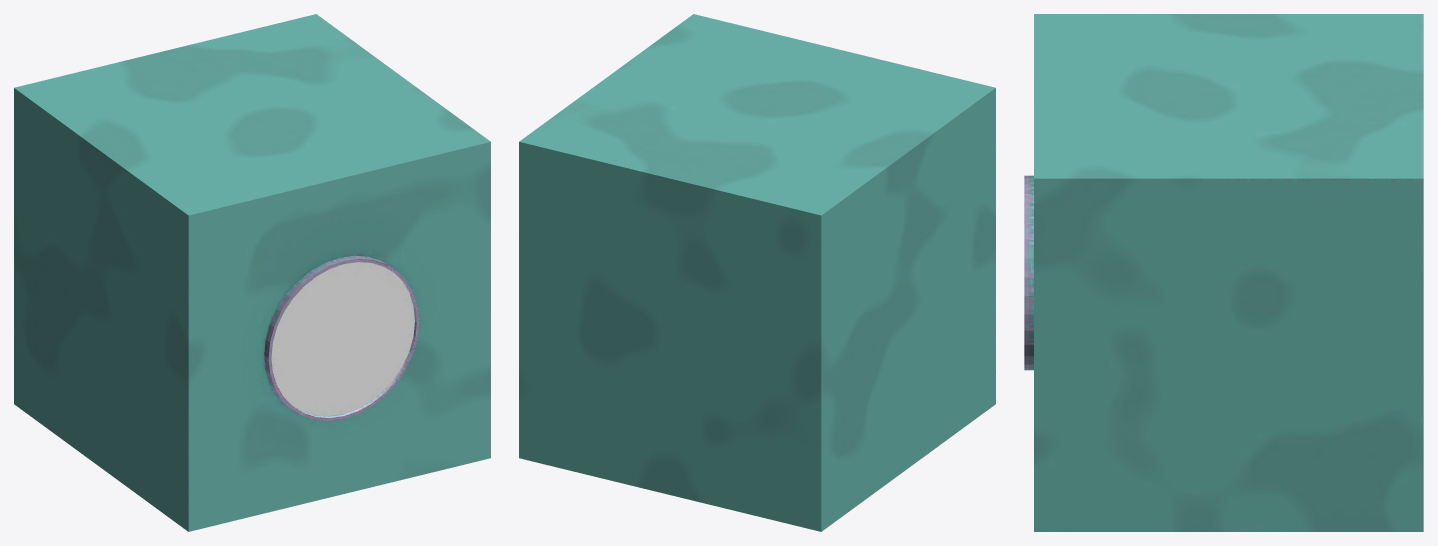
Rendered from nakagin_capsule_center_green.glb.
3 views of the same model, side by side, from view 1: azimuth 30°, elevation 25°; view 2: azimuth 150°, elevation 25°; view 3: azimuth 270°, elevation 25° (orthographic). The views are drawn at different scales.
Visible parts, largest first — view 1: Nakagin_capsule; view 2: Nakagin_capsule; view 3: Nakagin_capsule.
Boxes of the visible parts, <box> form: Nakagin_capsule: <box>14,14,490,531</box>; Nakagin_capsule: <box>519,14,995,531</box>; Nakagin_capsule: <box>1024,14,1423,531</box>.
Size of the model in its own units: 1 by 1 by 1.02.
1 material, 1 textured.
